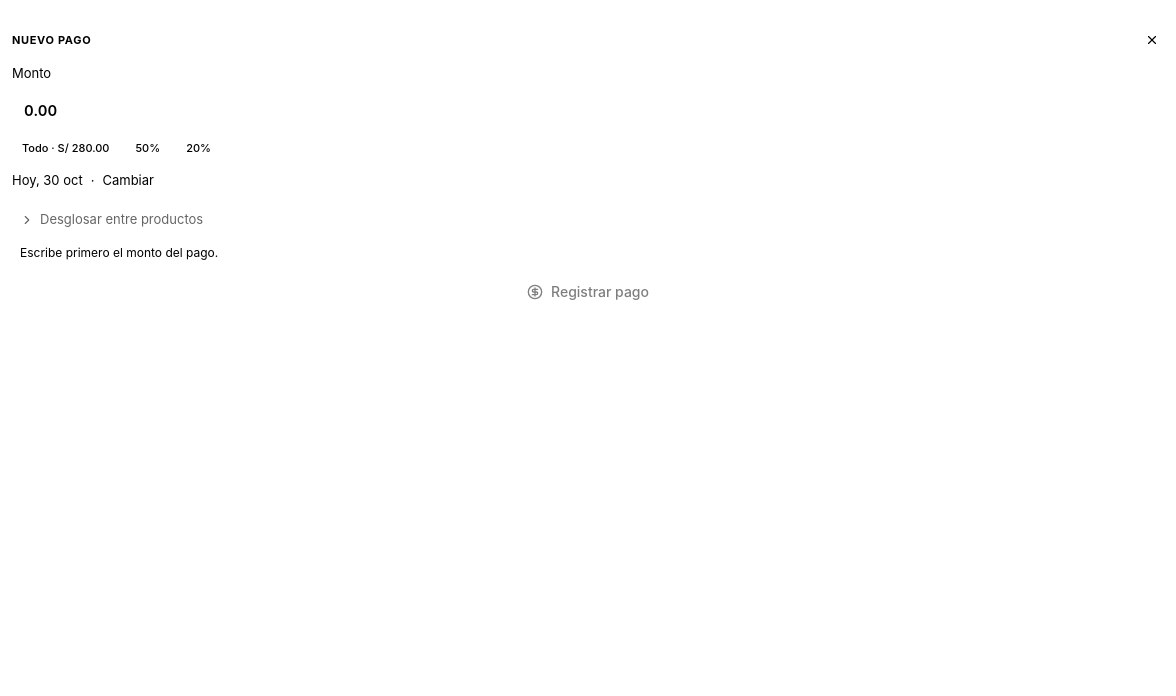
Test: order payment breakdown · figures inside the list partition, never replicate (I-1b) › prints no payment figure at all inside the list with an empty draft
Type "280.00" into the field labelled "Monto" at (588, 111), box x1=12 y1=90 x2=1164 y2=132
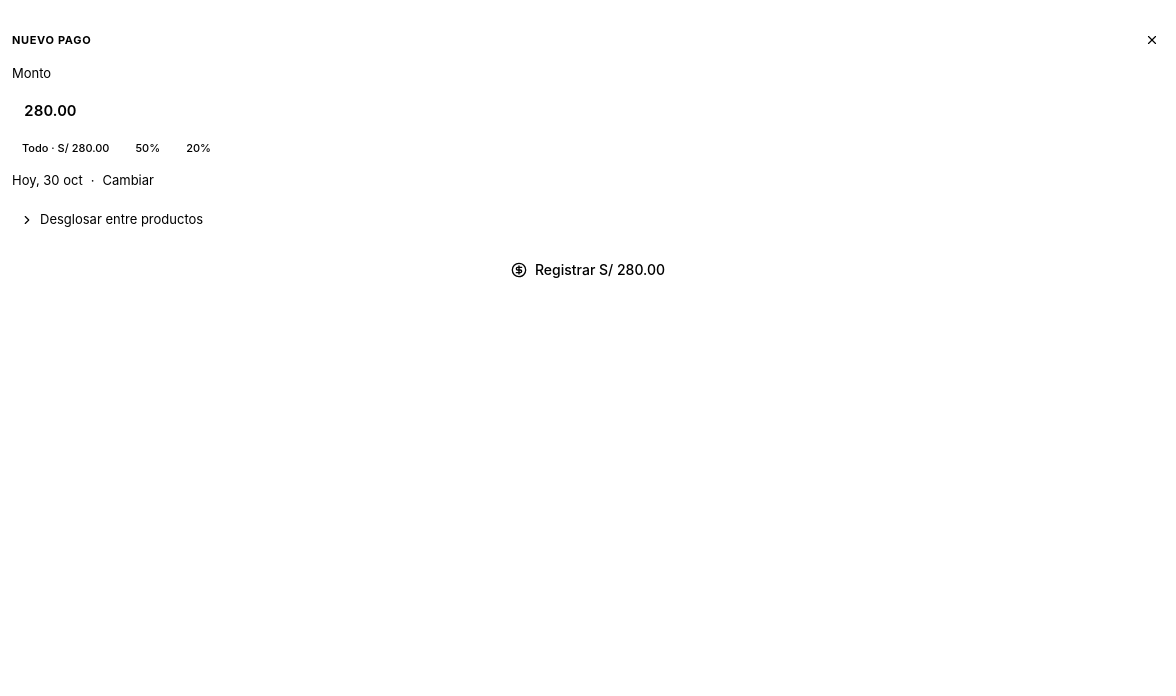
Click the button "Desglosar entre productos" at (122, 219), box x1=12 y1=200 x2=1164 y2=240
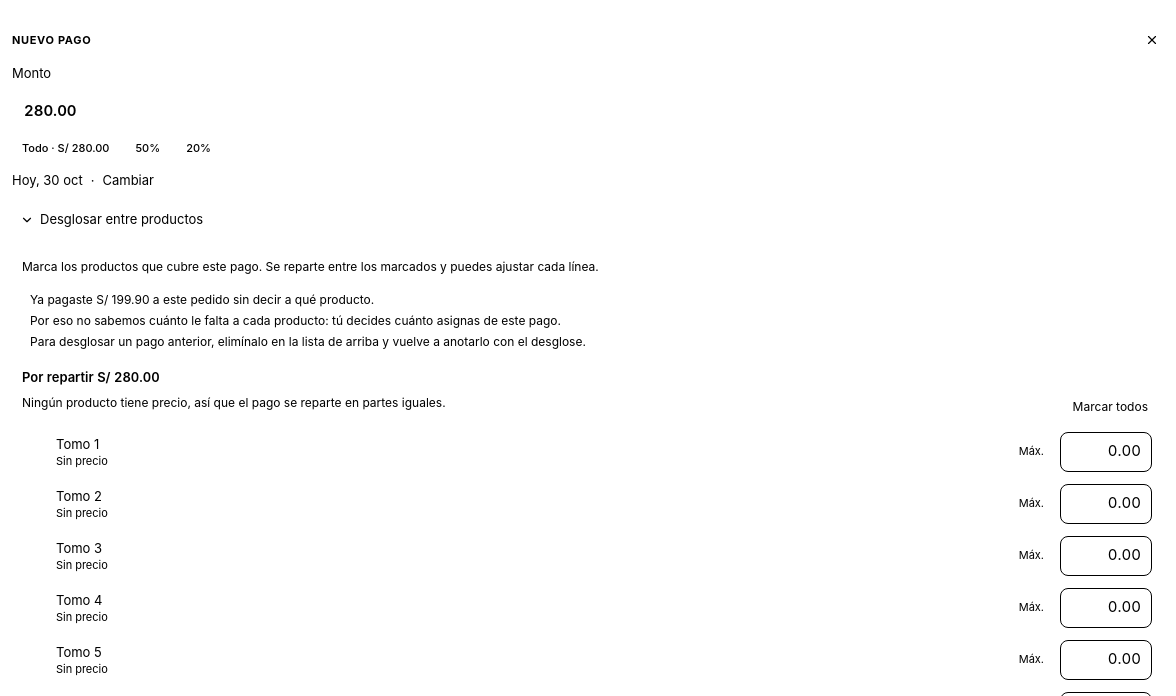
Expected: the text "Por repartir S/ 280.00" is shown, x1=22 y1=369 x2=160 y2=385
